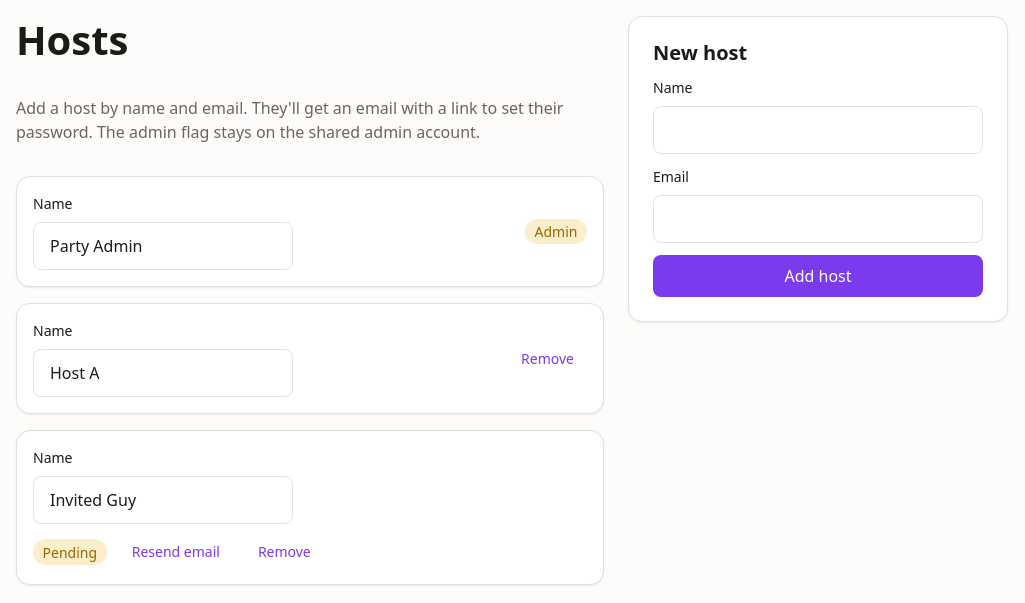
Test: Hosts › pending hosts › resends the invite
Expected: the 4th field showing "Invited Guy" is shown, [33, 476, 293, 524]
Step 1. Click the button "Resend email" → (176, 552), box [119, 536, 233, 568]
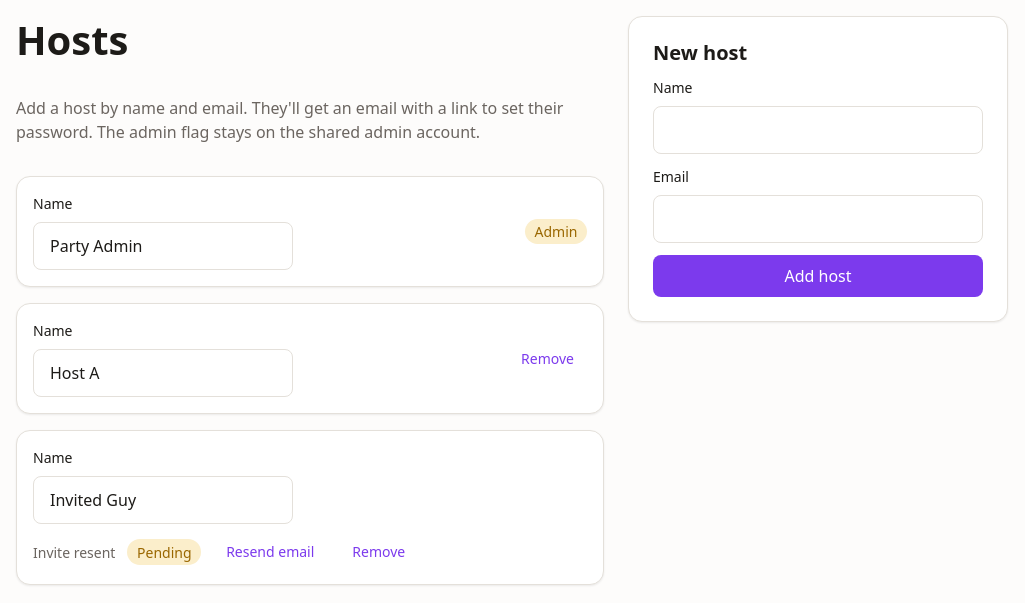
Expected: the text "Invite resent" is shown, [33, 542, 115, 562]
